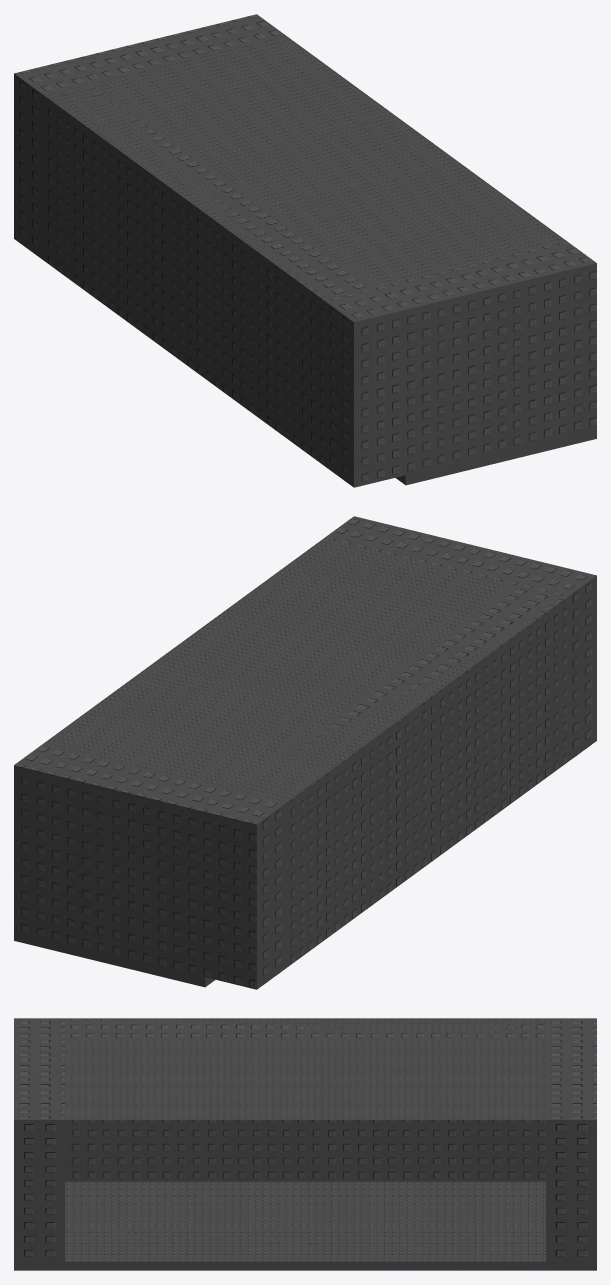
The model's file is STAGE.fbx.
3 views of the same model, one above another, from view 1: azimuth 30°, elevation 25°; view 2: azimuth 150°, elevation 25°; view 3: azimuth 270°, elevation 25° (orthographic). The views are drawn at different scales.
Parts seen in each view (by area): view 1: Cube.008, Cube.005; view 2: Cube.008, Cube.005; view 3: Cube.008, Cube.005.
Part boxes in pixels (x1=…): Cube.008: x1=14, y1=14, x2=596, y2=487; Cube.005: x1=395, y1=428, x2=596, y2=485; Cube.008: x1=14, y1=516, x2=596, y2=989; Cube.005: x1=14, y1=930, x2=215, y2=987; Cube.008: x1=14, y1=1018, x2=596, y2=1261; Cube.005: x1=14, y1=1181, x2=596, y2=1270.
Bounding box in the file's own units: 456 × 315 × 1107.
Materials: 2 (2 with a texture image).
